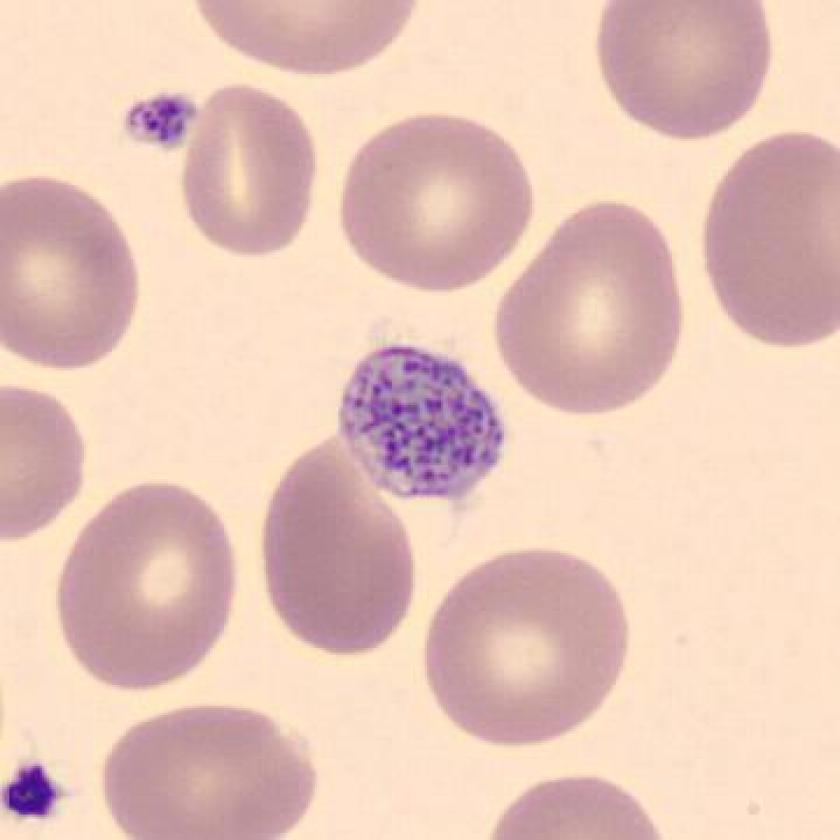platelets: (328, 334, 519, 517), (115, 77, 204, 161), (1, 744, 76, 834)
